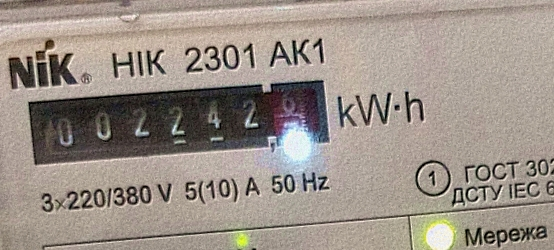0: (55, 114, 77, 149), (92, 108, 114, 143)
2: (130, 105, 152, 139), (167, 102, 188, 137), (241, 97, 261, 130)
4: (205, 97, 224, 131)
6: (280, 87, 298, 116)
screen: (17, 61, 342, 182)
